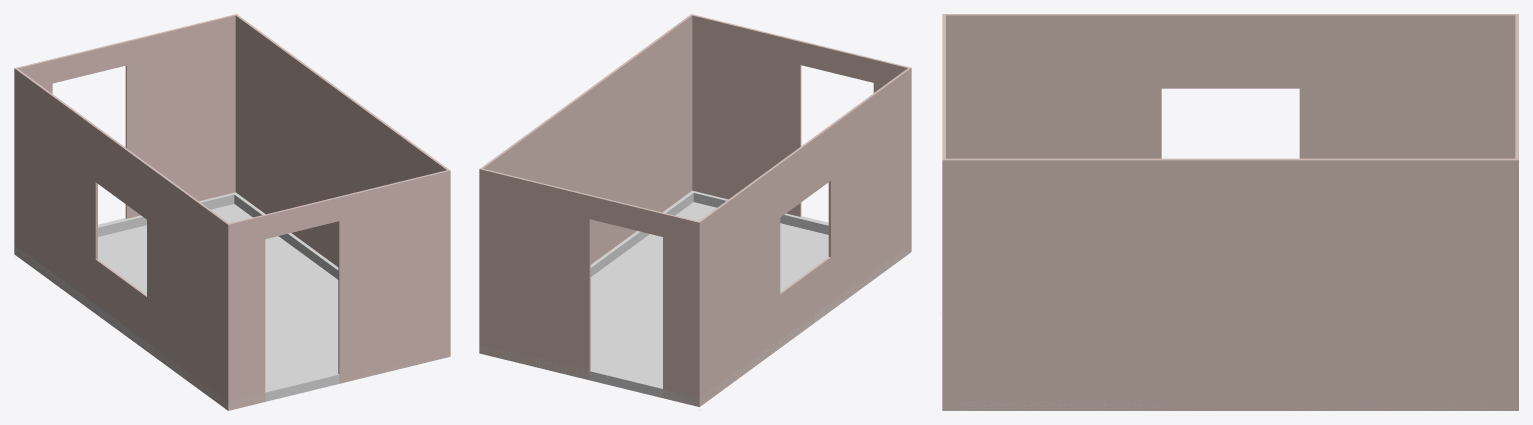
The model's file is Map_applyTransform.fbx.
3 renders of one model, left to right at view 1: azimuth 30°, elevation 25°; view 2: azimuth 150°, elevation 25°; view 3: azimuth 270°, elevation 25°, orthographic. The views are drawn at different scales.
Parts seen in each view (by area): view 1: PlayerRoom, Floor, Baseboard; view 2: PlayerRoom, Floor, Baseboard; view 3: PlayerRoom, Baseboard.
Part boxes in pixels (left/top/right/bottom): PlayerRoom: left=14, top=14, right=450, bottom=410; Floor: left=98, top=204, right=338, bottom=389; Baseboard: left=14, top=192, right=449, bottom=410; PlayerRoom: left=479, top=14, right=911, bottom=406; Floor: left=590, top=202, right=828, bottom=385; Baseboard: left=479, top=190, right=911, bottom=406; PlayerRoom: left=942, top=14, right=1518, bottom=410; Baseboard: left=942, top=398, right=1518, bottom=410.
Bounding box in the file's own units: 300 × 245 × 502.
